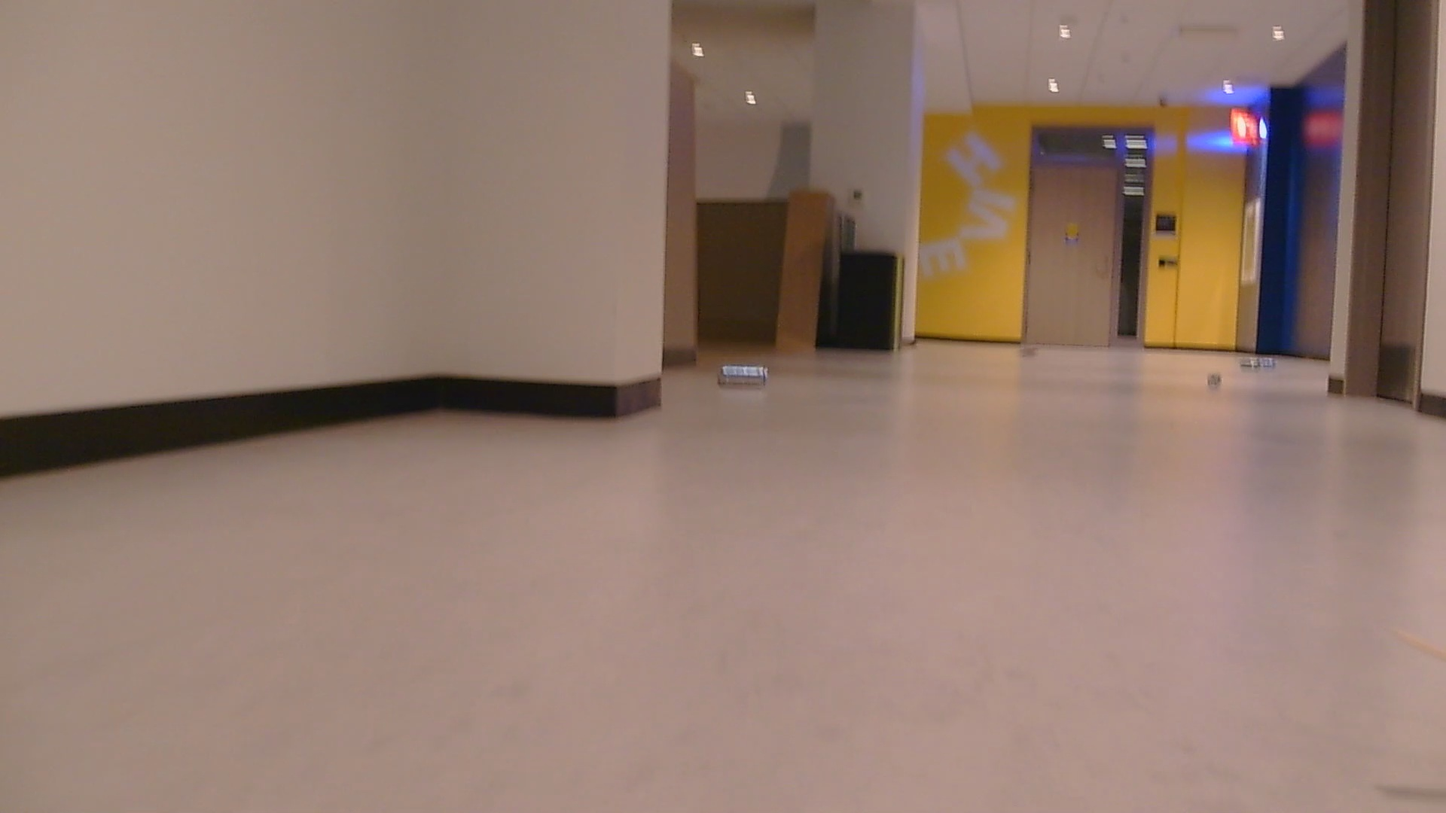carton: (708, 363, 776, 397), (1235, 352, 1279, 368), (1019, 345, 1038, 358), (1209, 372, 1219, 396)
